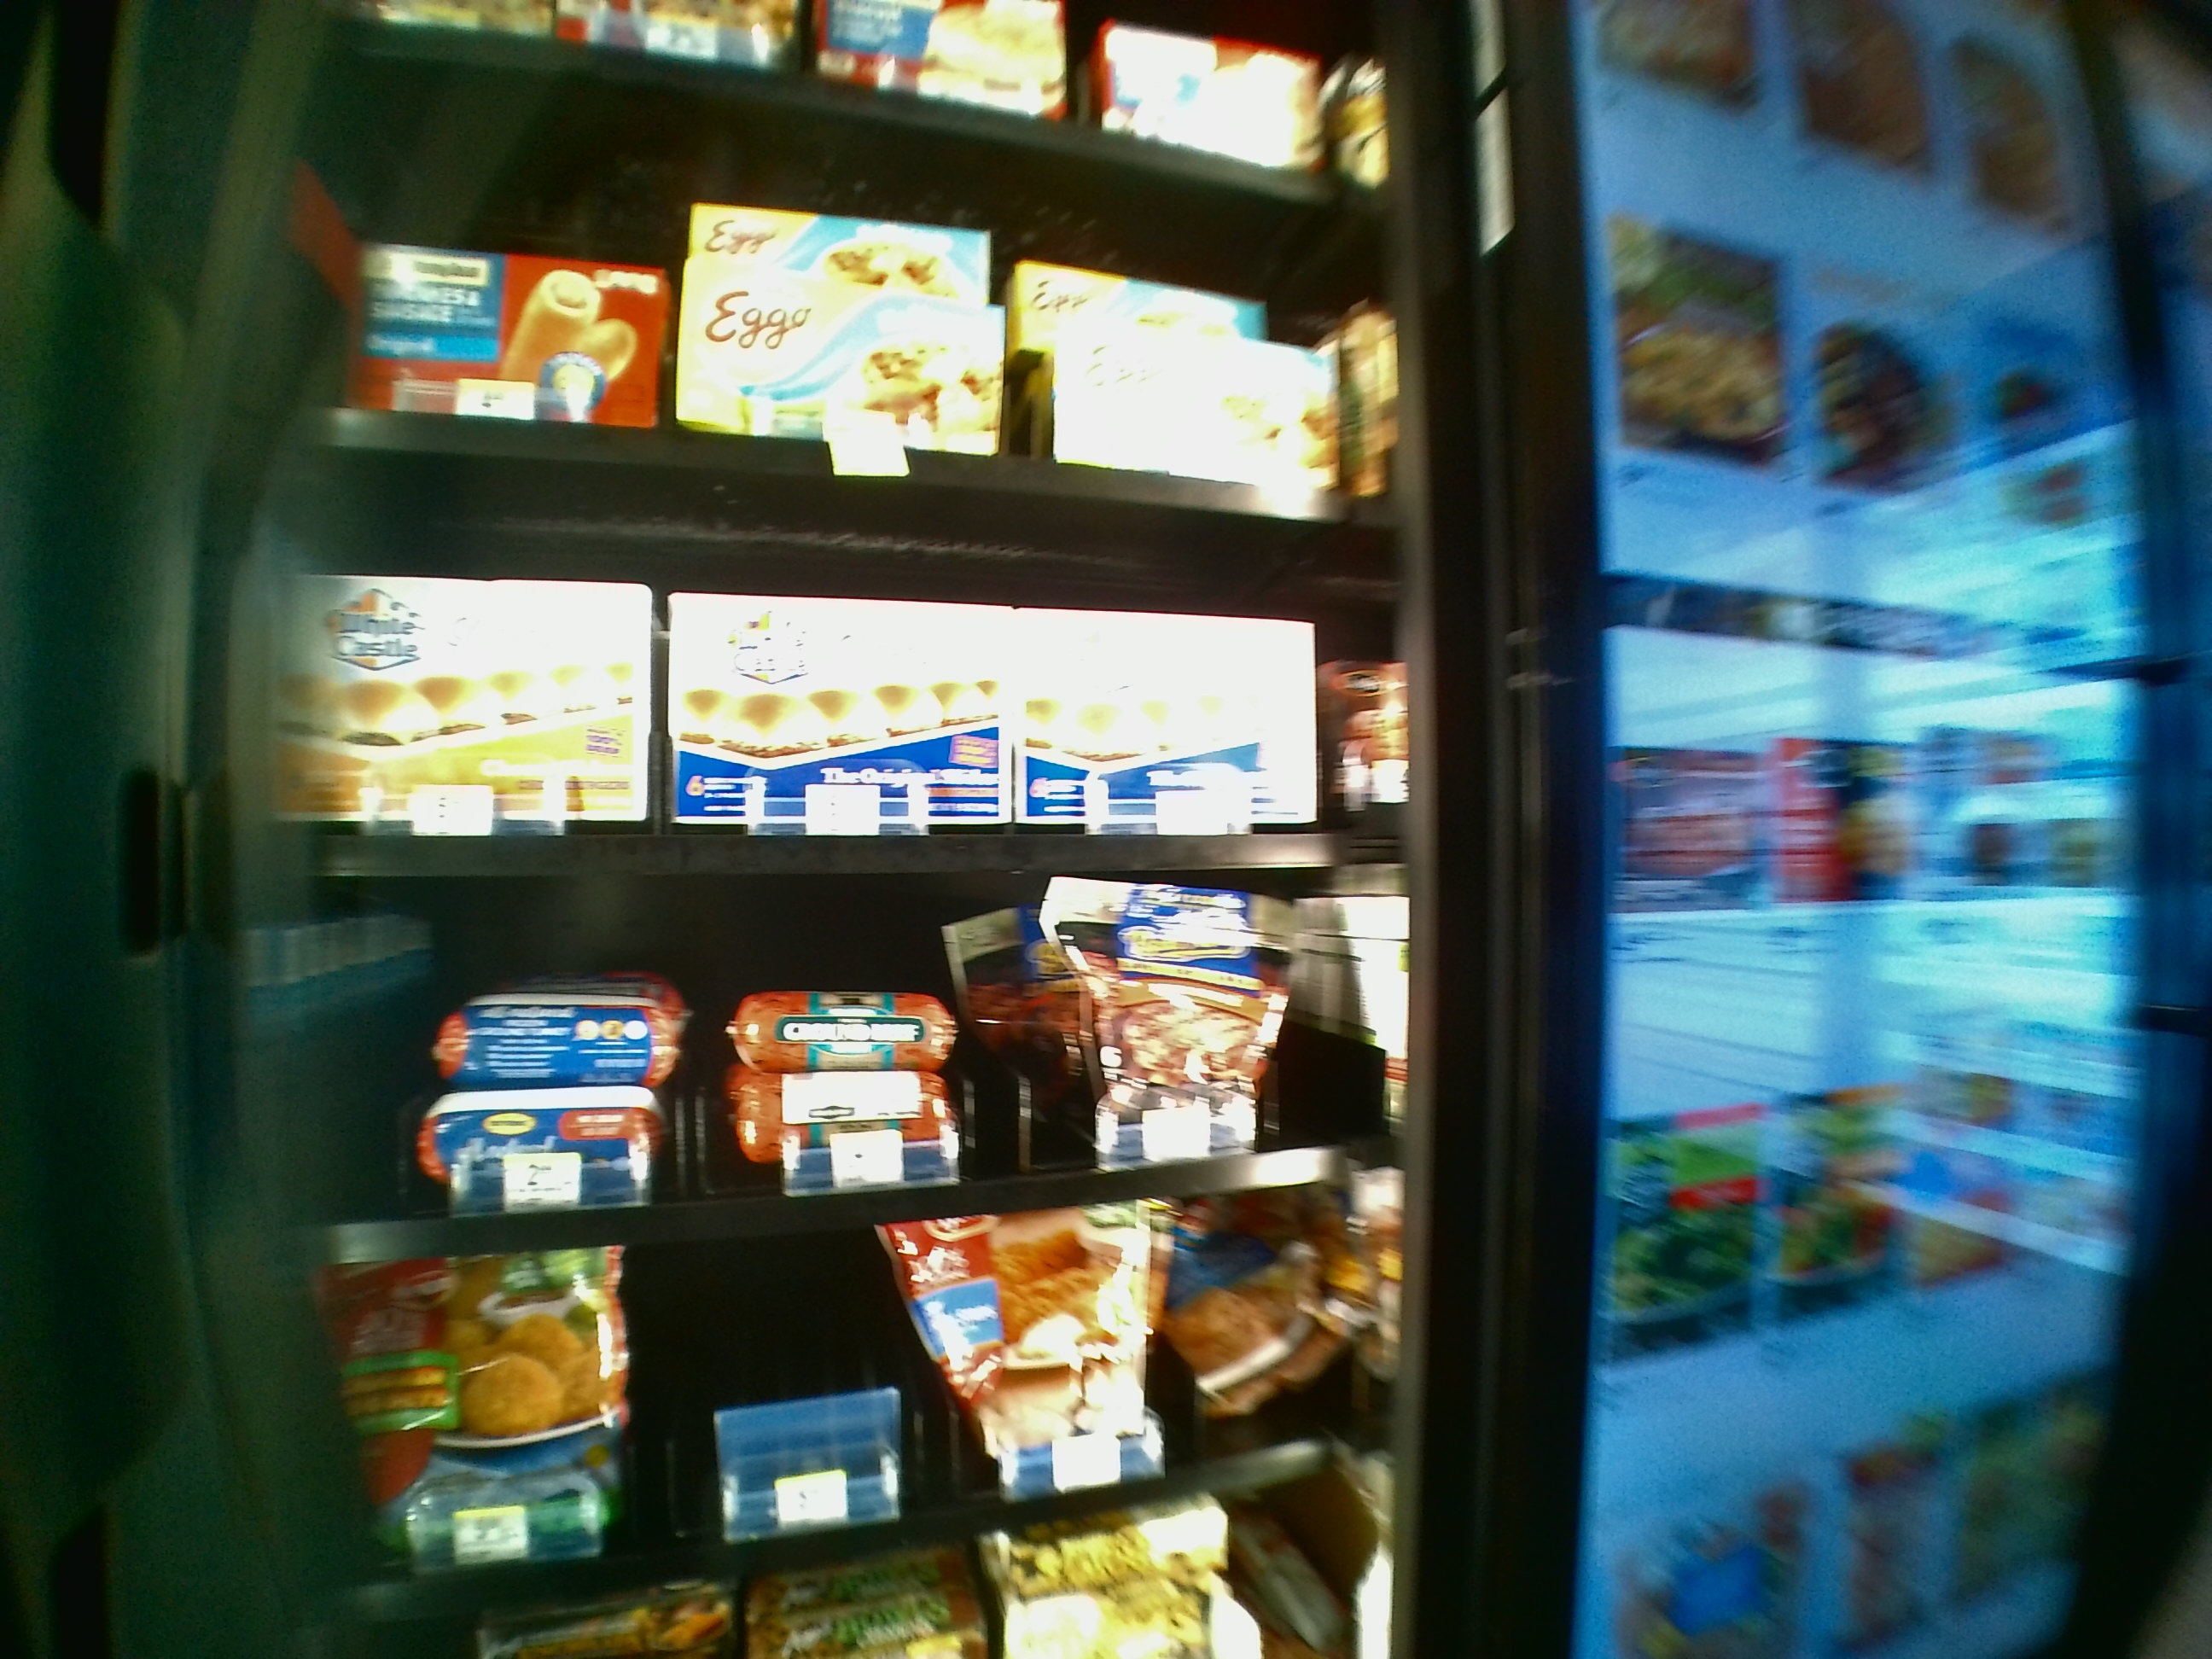shelf: (258, 457, 1400, 873), (254, 892, 1406, 1258)
